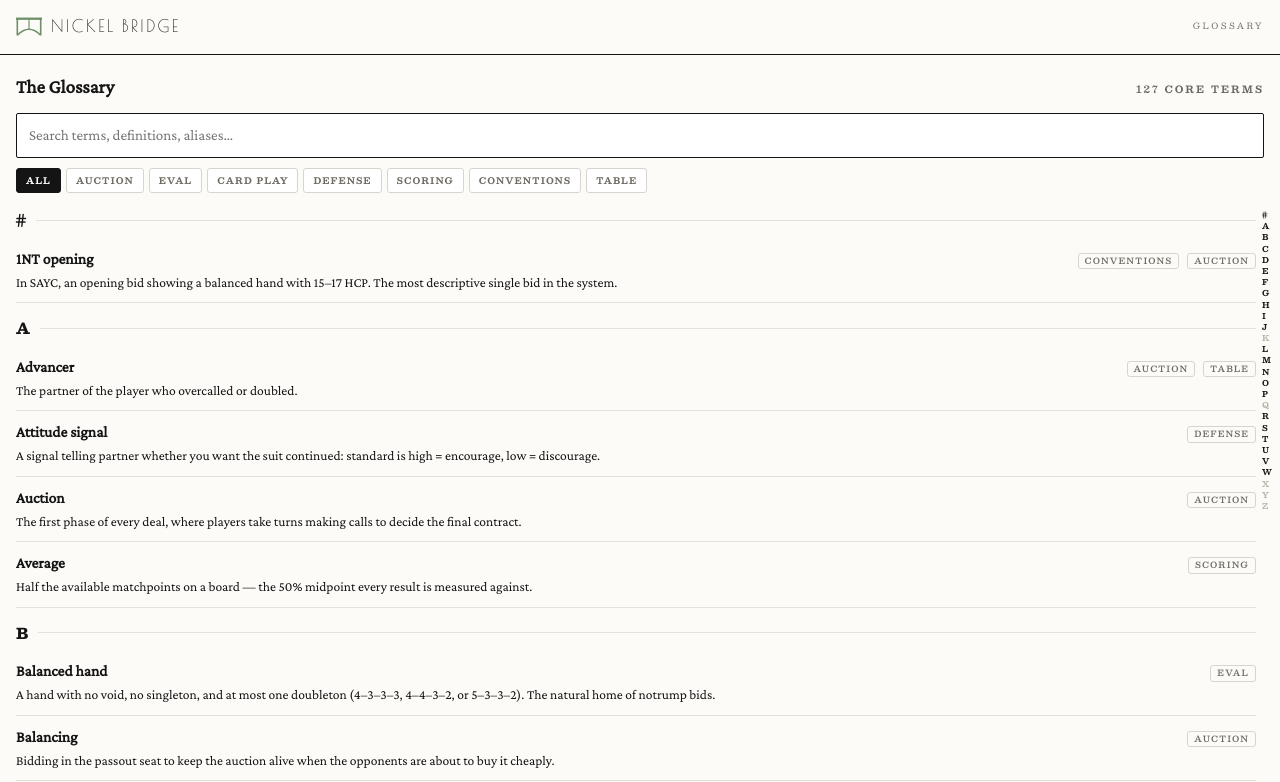
Test: Glossary page › falls through to the deep reference when the core ledger has nothing
This screenshot has width=1280, height=782.
Type "splinter" into the search field at (640, 135), box [16, 113, 1264, 158]
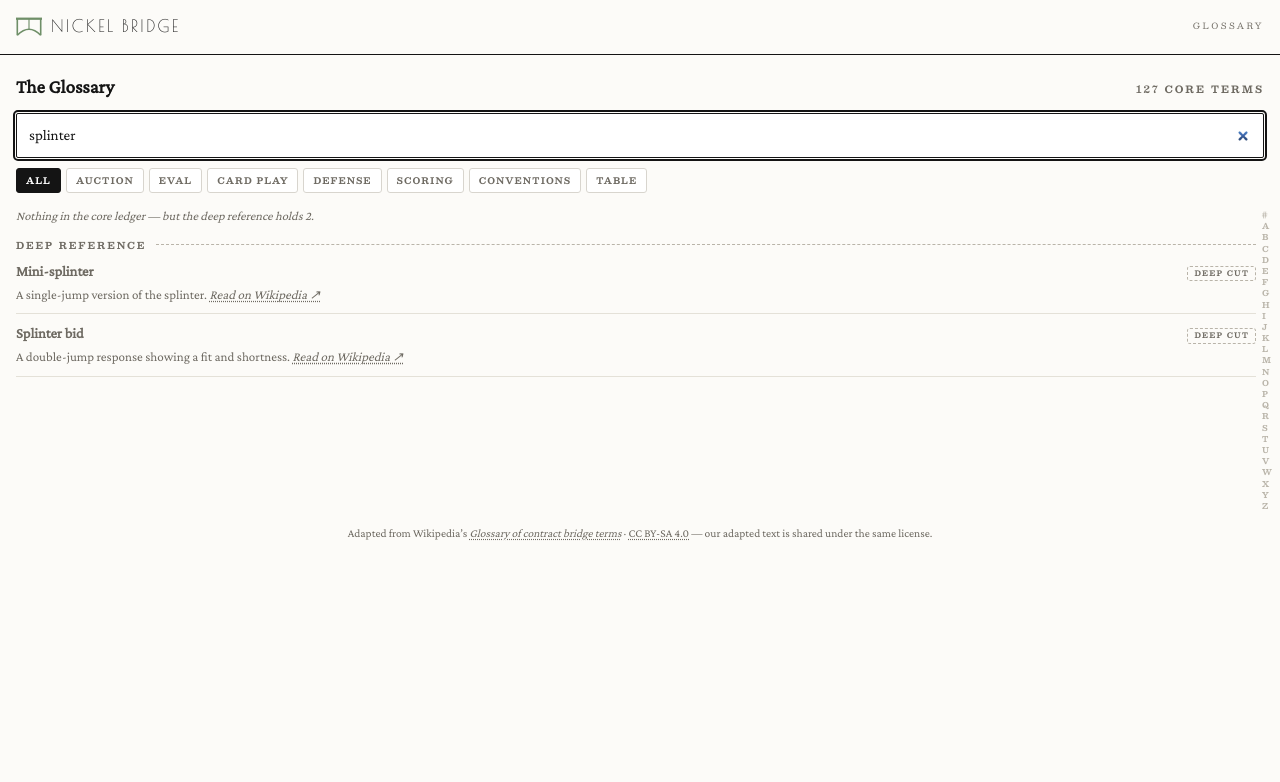
Expected: the text "Nothing in the core ledger — but the deep reference holds 2." is shown, [16, 209, 314, 223]
Expected: the text "DEEP CUT" is shown 2 times, [1188, 266, 1256, 281]; [1188, 328, 1256, 344]
